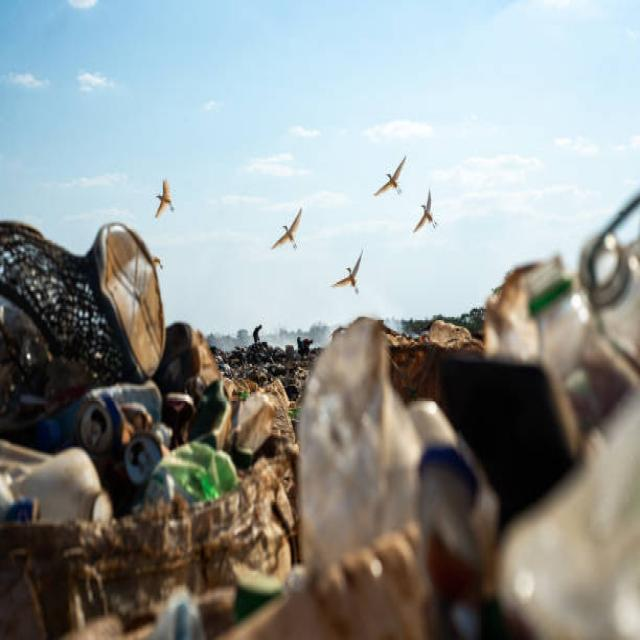metal: (8, 207, 166, 461)
plastic: (292, 348, 512, 629), (505, 251, 640, 417)
